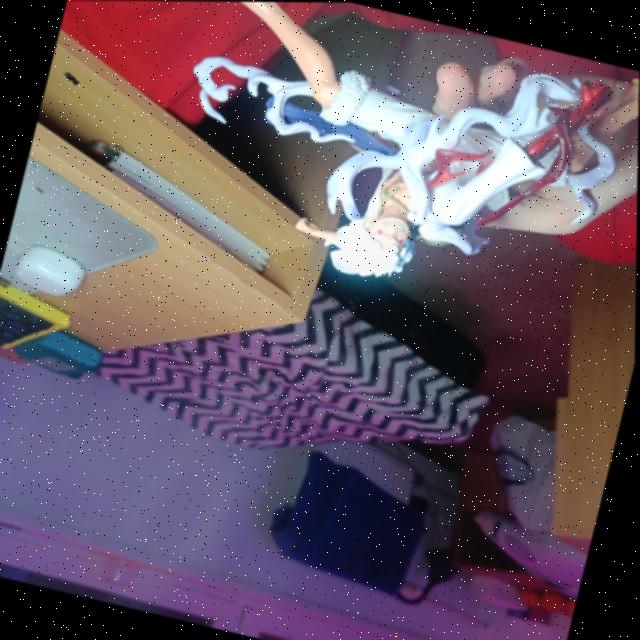luffy: (95, 1, 640, 353)
